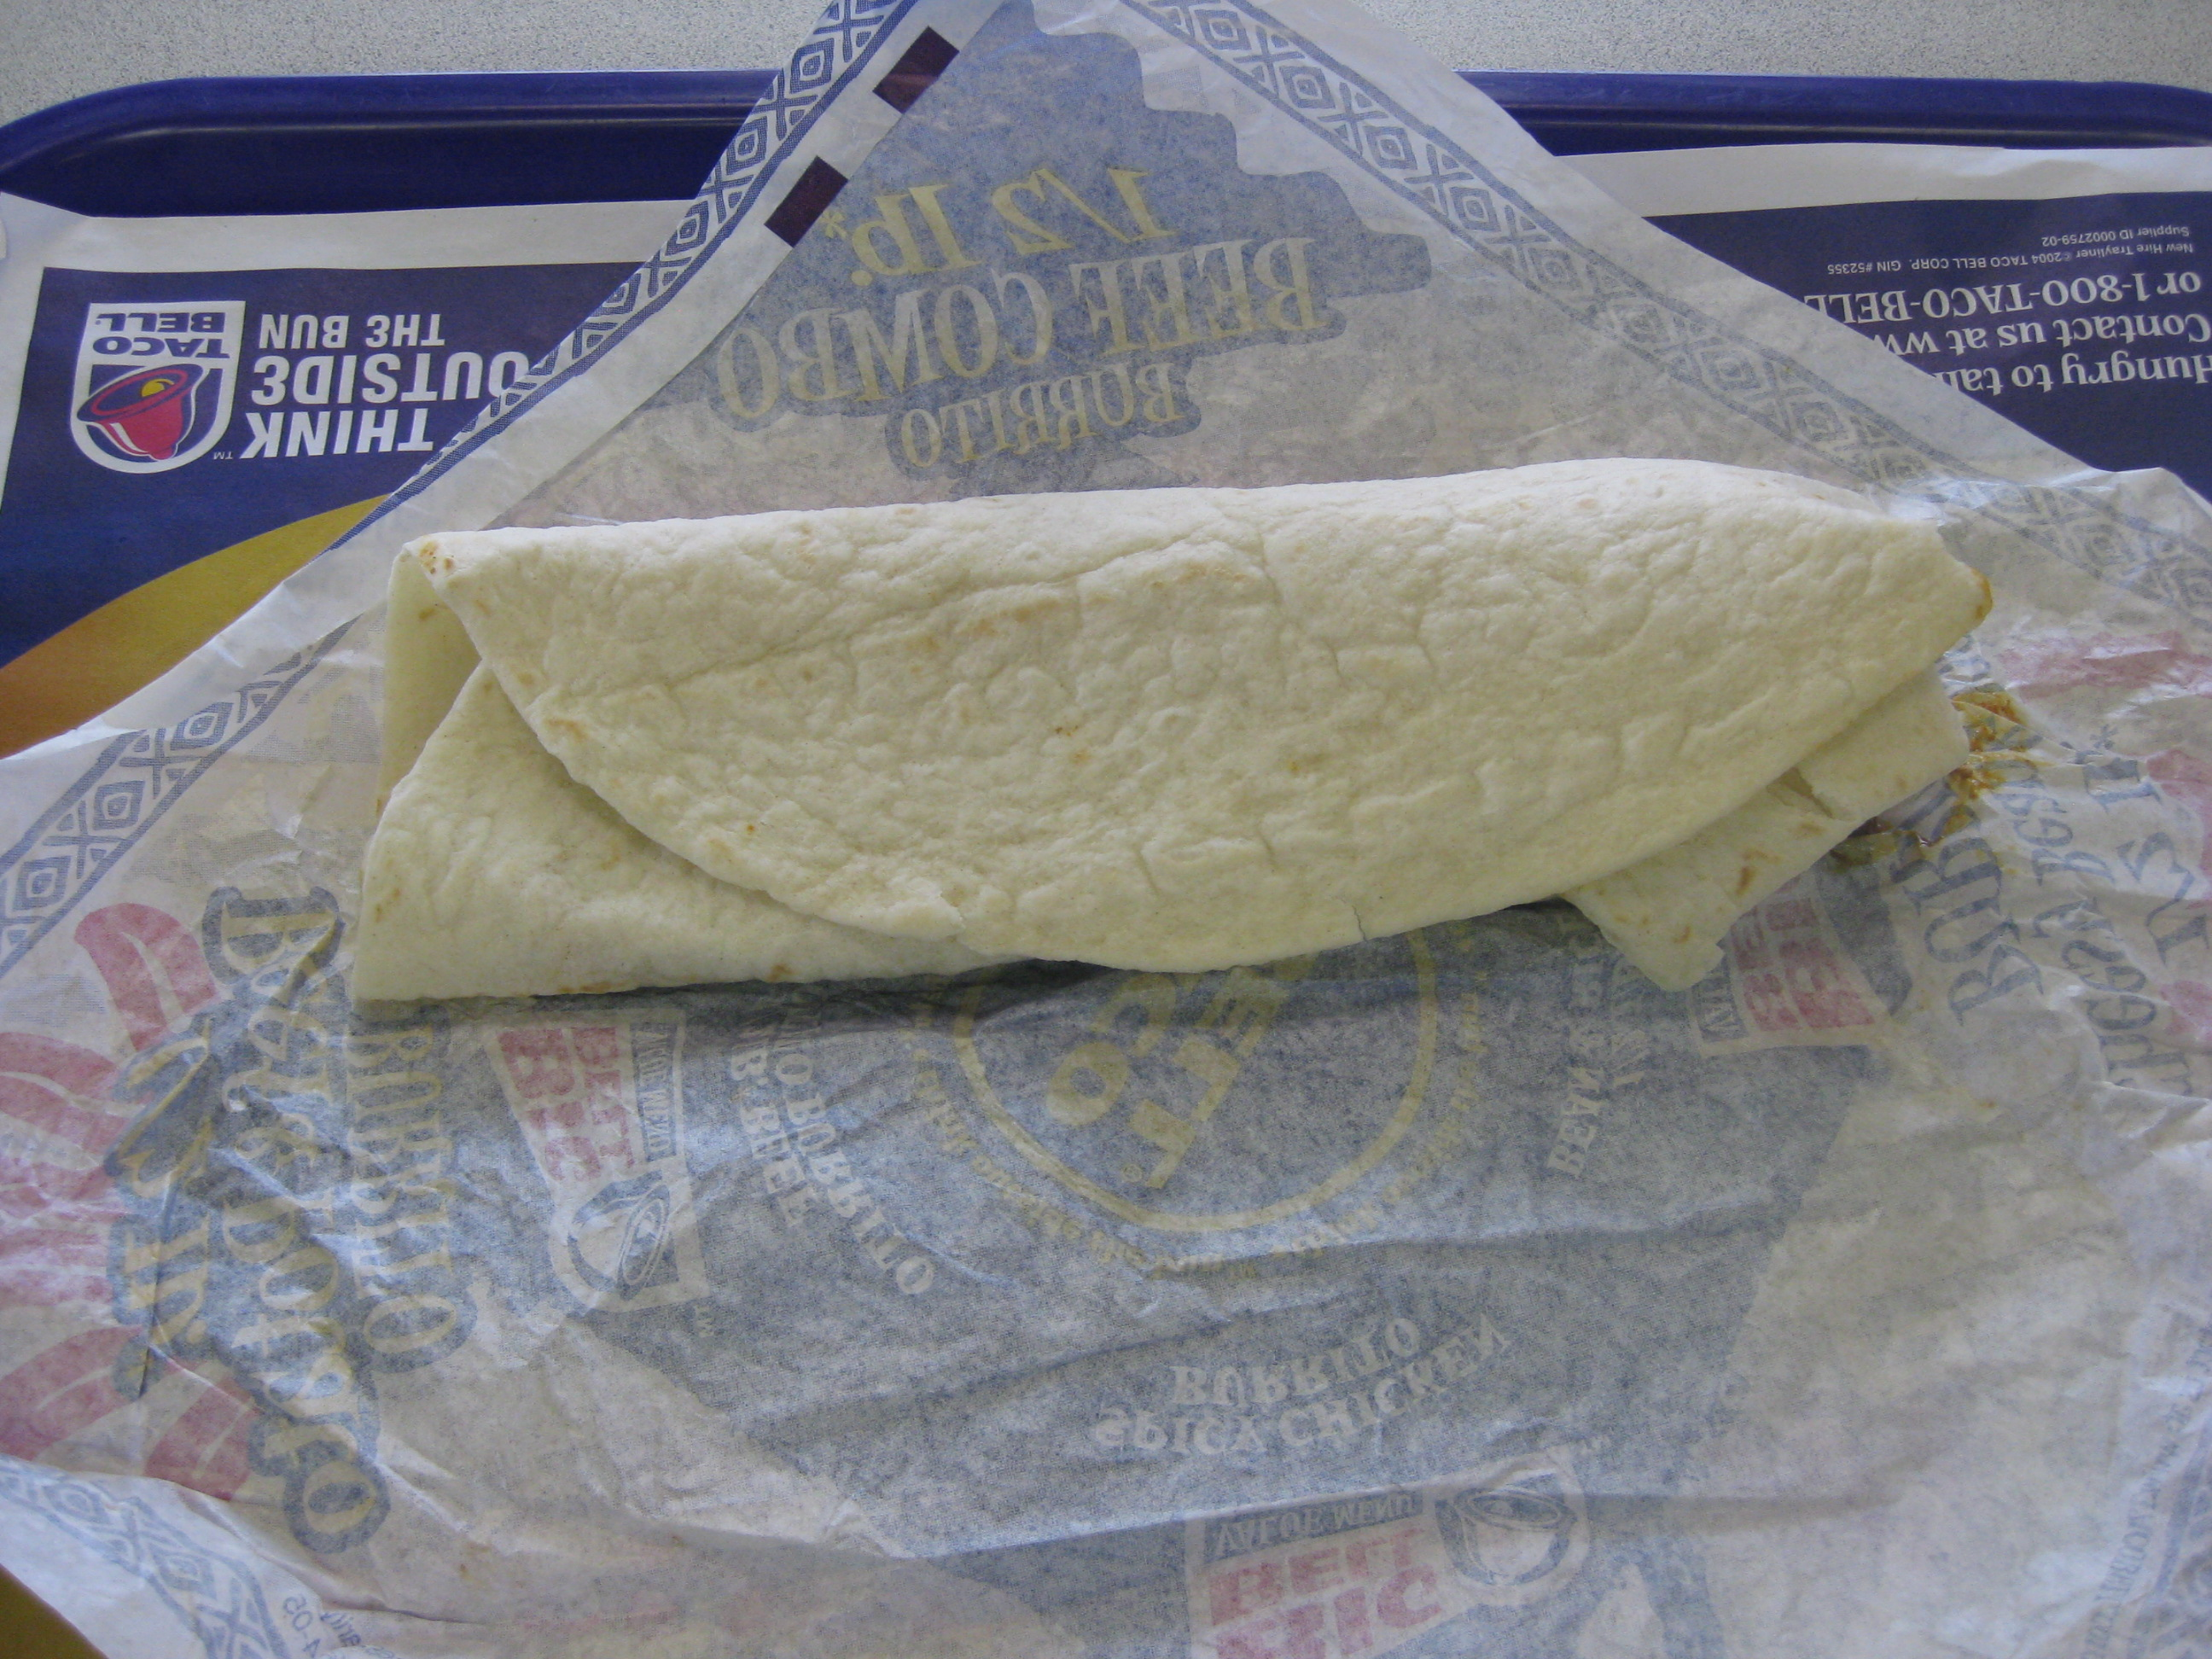burrito: (292, 411, 2003, 1032)
